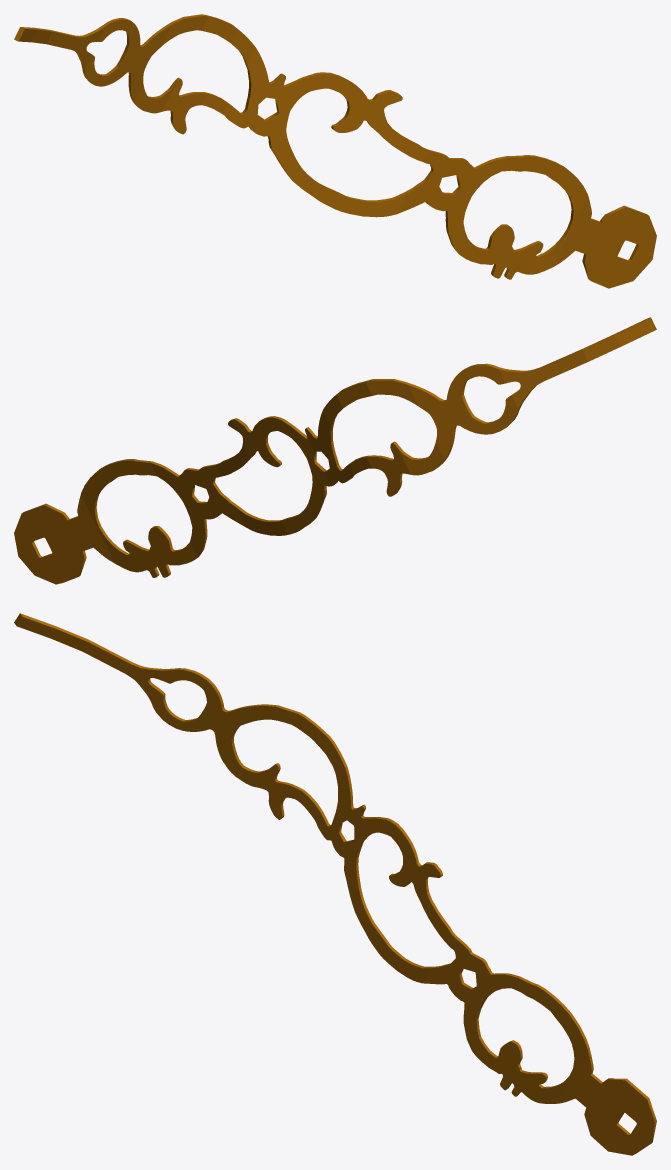
File: Copie de Aiguille des minutes^Horloge Comtoise Verge - Sonnerie.obj
The picture shows the model from 3 angles, top to bottom: view 1: azimuth 30°, elevation 25°; view 2: azimuth 150°, elevation 25°; view 3: azimuth 330°, elevation 25°; orthographic projection. The views are drawn at different scales.
Visible parts, largest first — view 1: Face_1, Face_366, Face_29, Face_216, Face_896, Face_448, Face_349, Face_727, Face_1068, Face_346, Face_832, Face_835 (+2 smaller); view 2: Face_31, Face_215, Face_1066, Face_602, Face_344, Face_1108, Face_687, Face_829, Face_894, Face_893, Face_406, Face_1110 (+3 smaller); view 3: Face_1, Face_29, Face_366, Face_216, Face_896, Face_448, Face_1068, Face_727.
Boxes of the visible parts, x1,y1,x2,y2 form: Face_1: (553,195,656,288); Face_366: (259,74,394,210); Face_29: (460,156,587,279); Face_216: (397,150,507,254); Face_896: (84,19,172,102); Face_448: (223,47,285,134); Face_349: (338,194,406,217); Face_727: (162,79,206,134); Face_1068: (46,27,104,69); Face_346: (376,114,427,161); Face_832: (162,16,208,45); Face_835: (134,84,175,113); Face_31: (14,494,114,584); Face_215: (81,460,196,577); Face_1066: (408,365,517,459); Face_602: (232,417,330,534); Face_344: (150,463,245,557); Face_1108: (499,349,588,408); Face_687: (305,410,354,486); Face_829: (366,443,410,496); Face_894: (365,380,418,406); Face_893: (398,442,444,475); Face_406: (236,507,287,535); Face_1110: (615,317,656,346); Face_1: (554,1051,654,1155); Face_29: (472,978,587,1103); Face_366: (337,814,435,954); Face_216: (423,936,517,1049); Face_896: (151,669,261,763); Face_448: (313,769,363,851); Face_1068: (82,642,171,701); Face_727: (259,764,301,819).
Bounding box in the file's own units: 0.1055 × 0.0642 × 0.0153.
